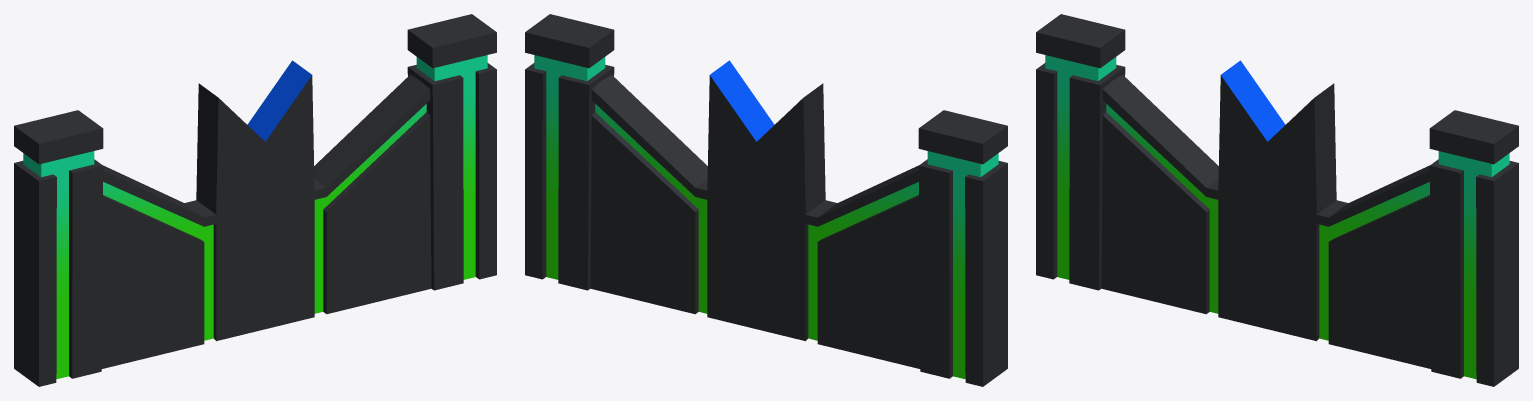
The model's file is test_gate3.fbx.
3 views of the same model, side by side, from view 1: azimuth 30°, elevation 25°; view 2: azimuth 150°, elevation 25°; view 3: azimuth 330°, elevation 25° (orthographic).
Visible parts, largest first — view 1: gate3; view 2: gate3; view 3: gate3.
Part boxes in pixels (x1,y1,x2,y2): gate3: (14, 14, 496, 386); gate3: (525, 14, 1007, 386); gate3: (1036, 14, 1518, 386).
Size of the model in its own units: 747 by 379 by 70.6.
1 material, 1 textured.
